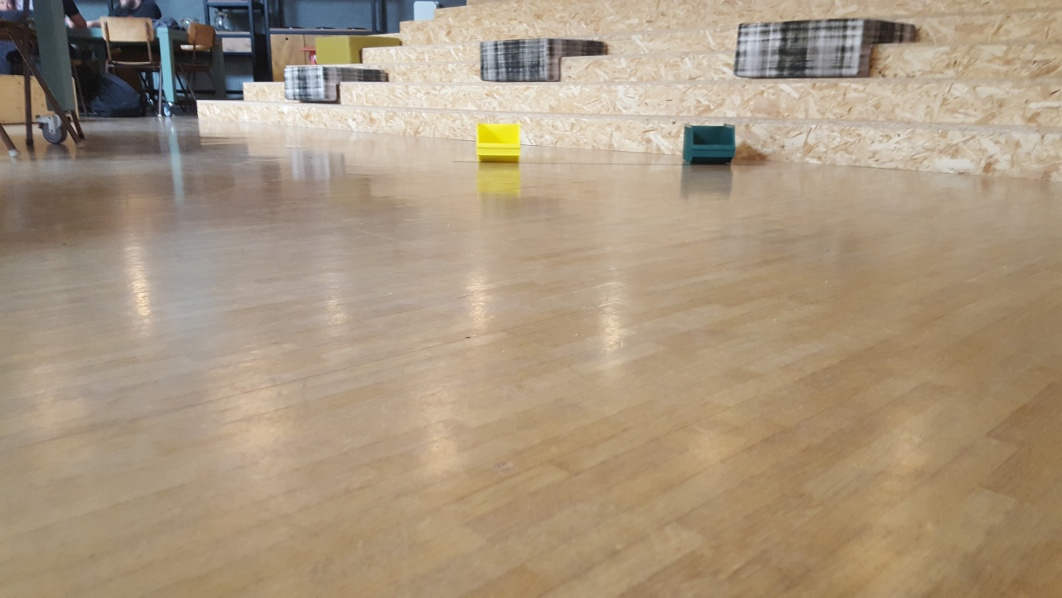tray: (677, 118, 740, 166), (472, 116, 523, 161)
